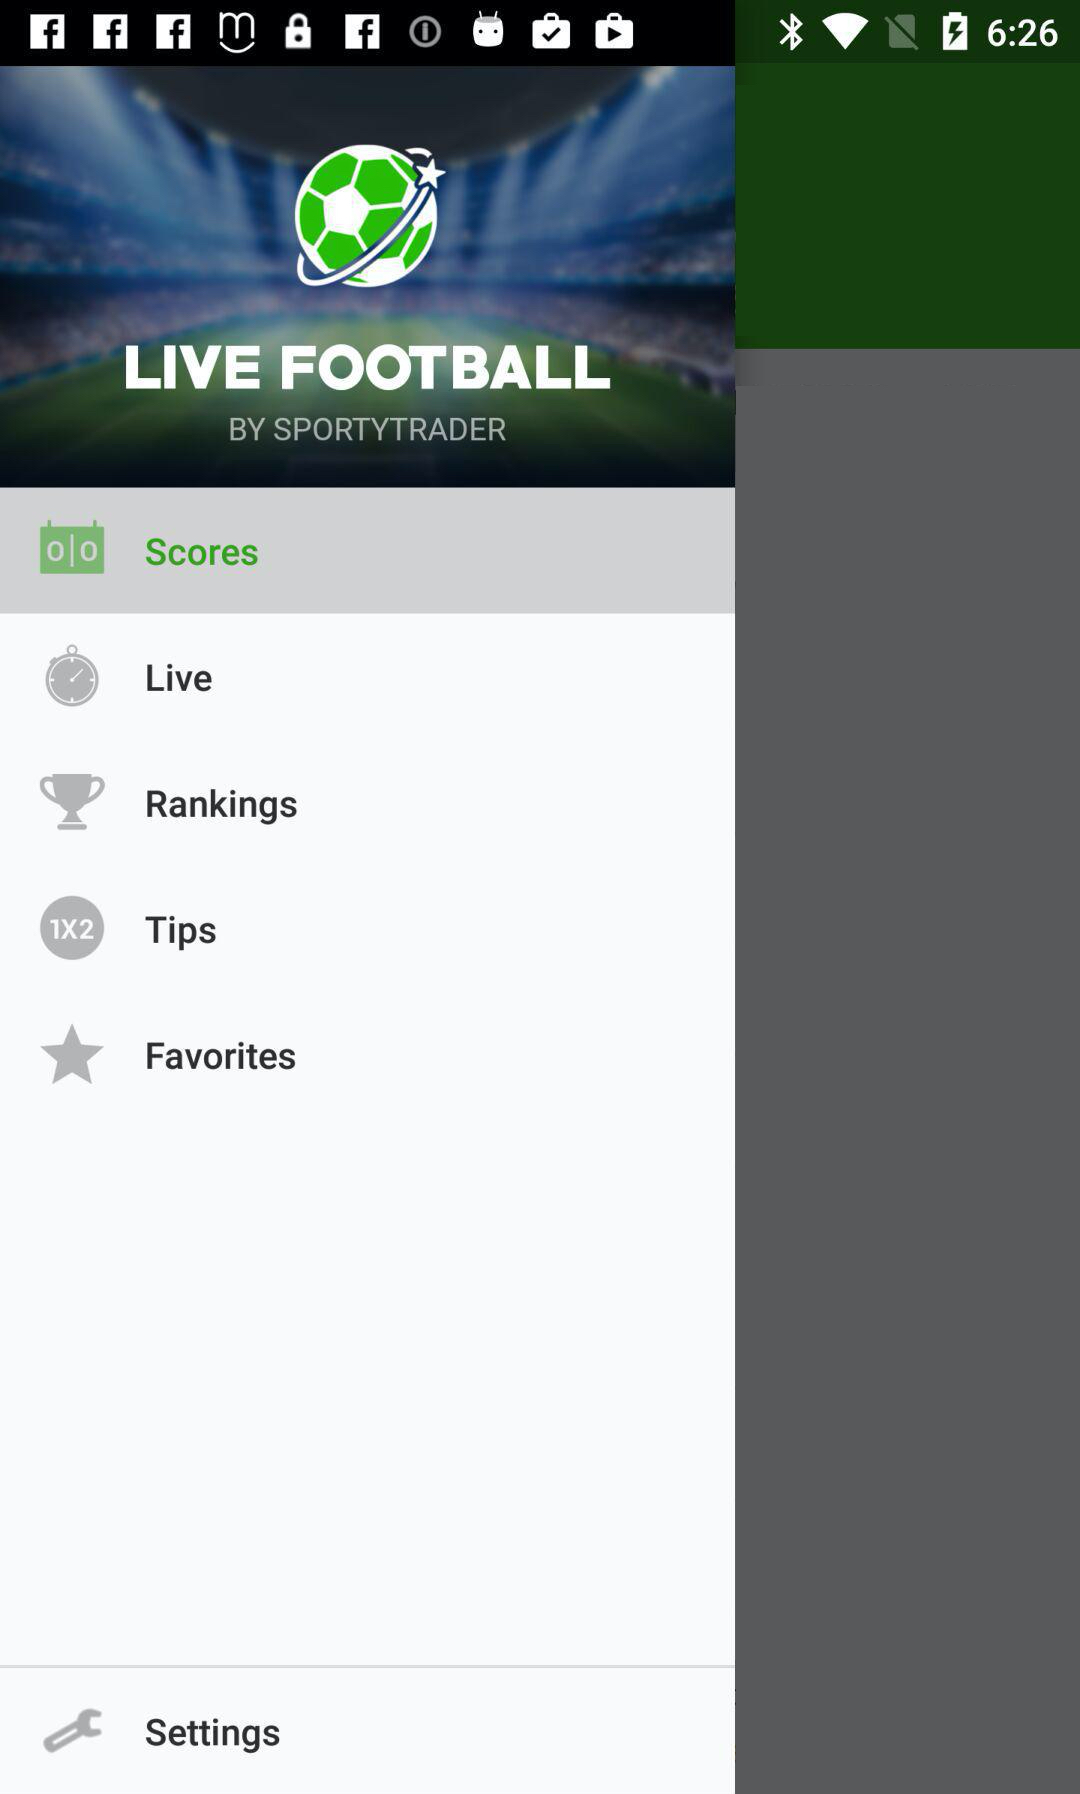Drawer: (1, 67, 735, 1794)
Icon: (40, 1024, 106, 1085), (45, 645, 101, 709)
Image: (1, 67, 734, 488), (40, 894, 106, 962), (40, 773, 108, 832), (40, 520, 106, 575), (42, 1707, 106, 1754)
Text: (126, 343, 612, 393), (229, 416, 509, 443), (146, 787, 299, 827), (145, 1717, 281, 1754), (146, 1041, 297, 1071), (145, 537, 260, 568), (145, 914, 218, 952), (146, 662, 214, 695)
UpperTaskBar: (1, 1, 1080, 64)
